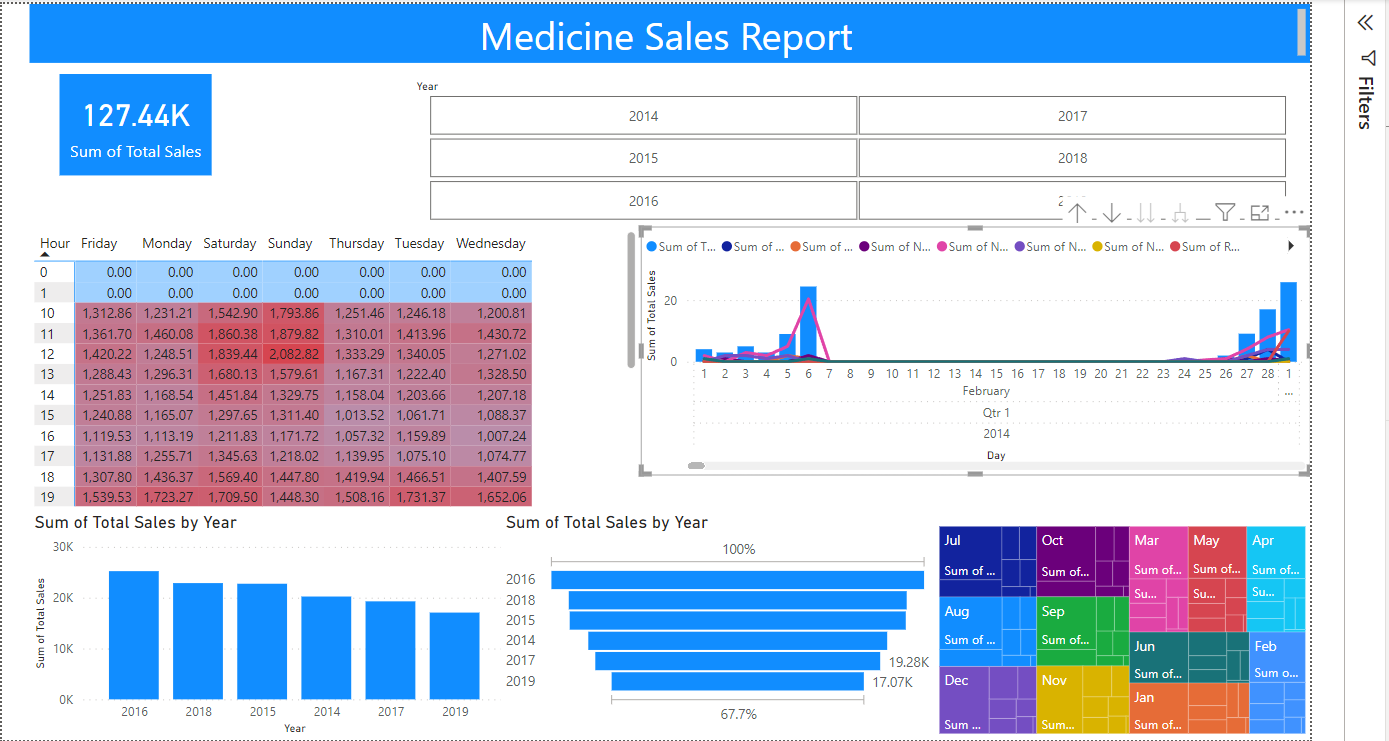

Layout of this report page (visuals, bound fields, positions):
{"tool":"powerbi","page":{"name":"Medicine","canvas":[1280,720],"ordinal":0},"visuals":[{"type":"pivotTable","fields":{"Rows":["saleshourly.Hour"],"Columns":["saleshourly.Weekday Name"],"Values":["Sum(saleshourly.Total Sales)"]},"box":[26.9,183.4,597.8,312.9],"z":0},{"type":"clusteredColumnChart","fields":{"Category":["saleshourly.Year"],"Y":["Sum(saleshourly.Total Sales)"]},"box":[26.9,496.3,471.9,223.7],"z":1000},{"type":"card","fields":{"Values":["Sum(saleshourly.Total Sales)"]},"box":[56.2,68.5,149.1,99],"z":2000},{"type":"treemap","fields":{"Values":["Sum(saleshourly.M01AB)","Sum(saleshourly.M01AE)","Sum(saleshourly.N02BA)","Sum(saleshourly.N02BE)","Sum(saleshourly.N05B)","Sum(saleshourly.N05C)","Sum(saleshourly.R03)","Sum(saleshourly.R06)"],"Group":["saleshourly.Month Name"]},"box":[911.9,506.1,367.9,212.7],"z":3000},{"type":"funnel","fields":{"Y":["Sum(saleshourly.Total Sales)"],"Category":["saleshourly.Year"]},"box":[487.7,496.3,424.2,222.5],"z":4000},{"type":"lineClusteredColumnComboChart","fields":{"Category":["saleshourly.Date.Variation.Date Hierarchy.Year","saleshourly.Date.Variation.Date Hierarchy.Quarter","saleshourly.Date.Variation.Date Hierarchy.Month","saleshourly.Date.Variation.Date Hierarchy.Day"],"Y":["Sum(saleshourly.Total Sales)"],"Y2":["Sum(saleshourly.M01AB)","Sum(saleshourly.M01AE)","Sum(saleshourly.N02BA)","Sum(saleshourly.N02BE)","Sum(saleshourly.N05B)","Sum(saleshourly.N05C)","Sum(saleshourly.R03)","Sum(saleshourly.R06)"]},"box":[624.7,183.4,655.2,312.9],"z":5000},{"type":"textbox","box":[26.9,0,1253,57.5],"z":6000},{"type":"slicer","fields":{"Values":["saleshourly.Year"]},"box":[227.4,68.5,1052.5,89.2],"z":7000}]}

Visuals, with their boxes in screenshot pixels (x1, y1, x2, y2):
pivotTable - saleshourly.Hour x saleshourly.Weekday Name: (left=35, top=186, right=642, bottom=504)
clusteredColumnChart - saleshourly.Year x Sum(saleshourly.Total Sales): (left=35, top=504, right=514, bottom=731)
card - Sum(saleshourly.Total Sales): (left=64, top=70, right=216, bottom=170)
treemap - Sum(saleshourly.M01AB) x Sum(saleshourly.M01AE): (left=933, top=514, right=1307, bottom=730)
funnel - Sum(saleshourly.Total Sales) x saleshourly.Year: (left=503, top=504, right=933, bottom=730)
lineClusteredColumnComboChart - saleshourly.Date.Variation.Date Hierarchy.Year x saleshourly.Date.Variation.Date Hierarchy.Quarter: (left=642, top=186, right=1307, bottom=504)
textbox: (left=35, top=0, right=1307, bottom=58)
slicer - saleshourly.Year: (left=238, top=70, right=1307, bottom=160)
